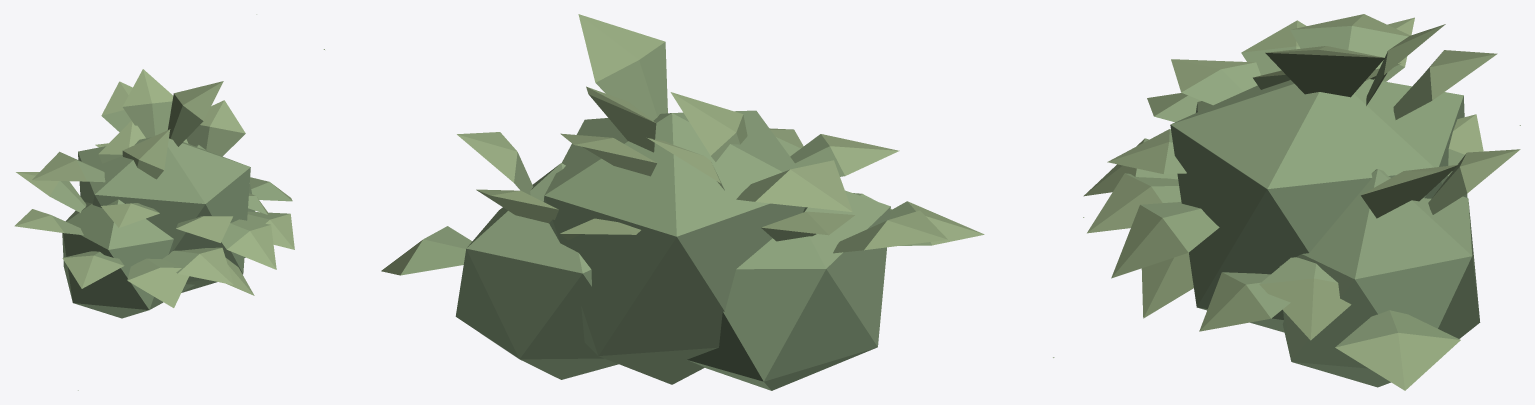
The model's file is Bush1_lite_leaf.glb.
The picture shows the model from 3 angles, left to right: view 1: azimuth 30°, elevation 25°; view 2: azimuth 150°, elevation 25°; view 3: azimuth 270°, elevation 25°; orthographic projection. The views are drawn at different scales.
Visible parts, largest first — view 1: Bush1_lite_leaf; view 2: Bush1_lite_leaf; view 3: Bush1_lite_leaf.
Part boxes in pixels (x1=…): Bush1_lite_leaf: x1=14, y1=14, x2=294, y2=390; Bush1_lite_leaf: x1=323, y1=14, x2=1054, y2=390; Bush1_lite_leaf: x1=1083, y1=14, x2=1520, y2=390.
Bounding box in the file's own units: 5.02 × 3.19 × 3.68.
